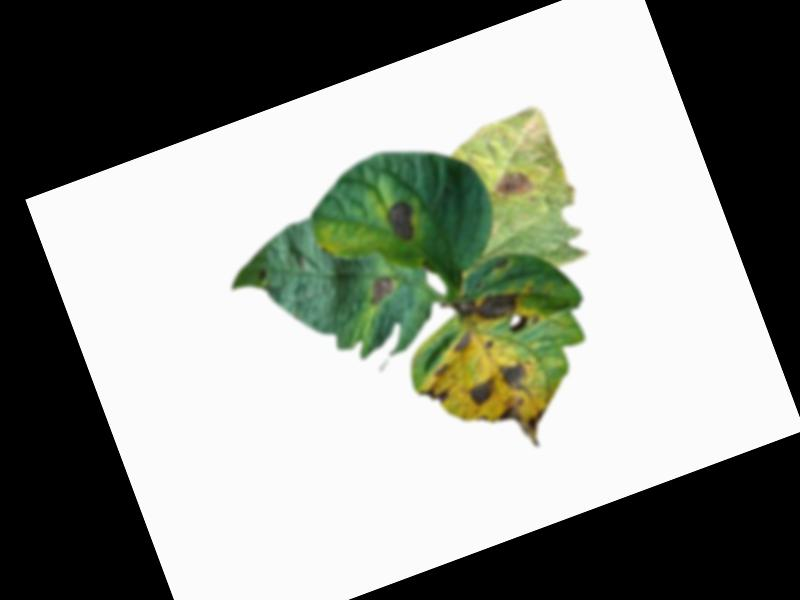Early_blight: (495, 386, 558, 456), (449, 277, 523, 333), (380, 195, 422, 246), (488, 164, 535, 205), (494, 353, 539, 395), (461, 374, 500, 410), (362, 270, 399, 307), (416, 379, 453, 412), (446, 328, 477, 356), (429, 361, 452, 378), (254, 268, 269, 282), (482, 337, 494, 349)
